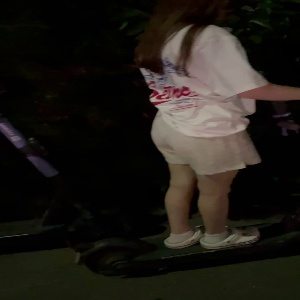human on a scooter: (60, 1, 300, 284)
